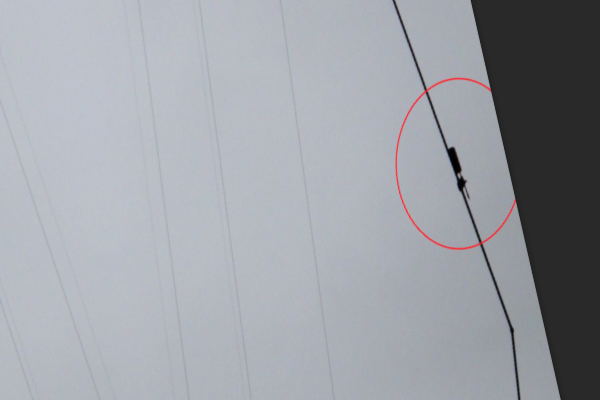damper_defect: (445, 144, 471, 201)
